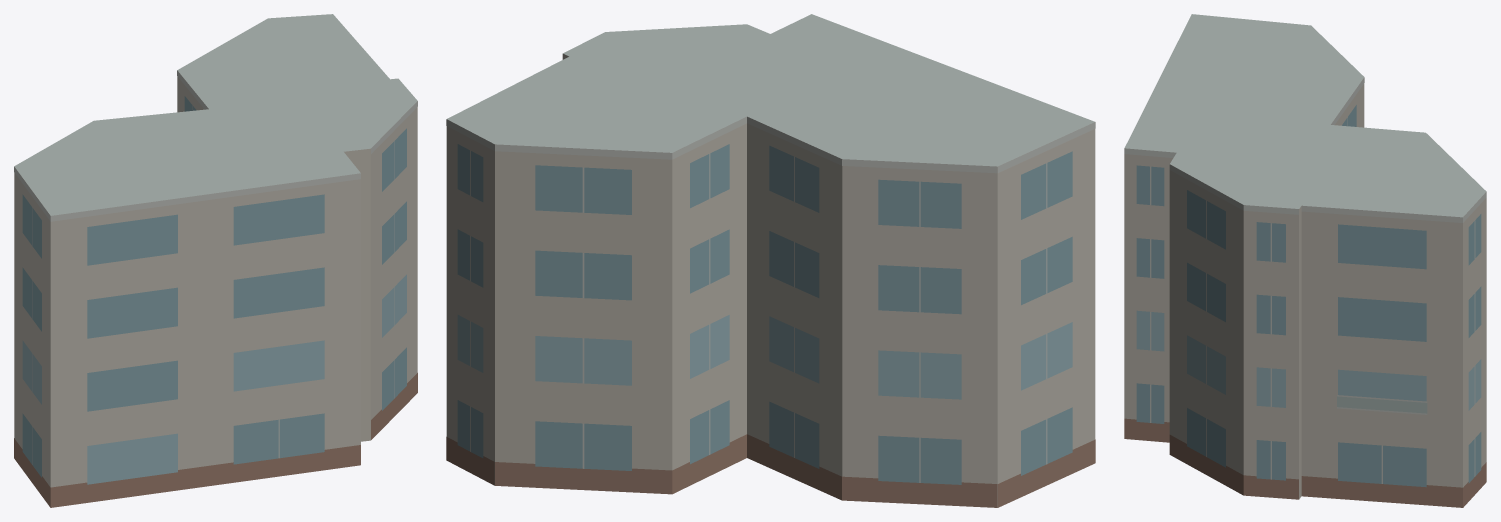
Rendered from survey-upis-32657081.glb.
3 views of the same model, side by side, from view 1: azimuth 30°, elevation 25°; view 2: azimuth 150°, elevation 25°; view 3: azimuth 270°, elevation 25° (orthographic). The views are drawn at different scales.
Visible parts, largest first — view 1: survey-upis-32657081.tmp; view 2: survey-upis-32657081.tmp; view 3: survey-upis-32657081.tmp.
Part boxes in pixels (x1,y1,x2,y2): survey-upis-32657081.tmp: (14, 14, 417, 507); survey-upis-32657081.tmp: (446, 14, 1095, 507); survey-upis-32657081.tmp: (1124, 14, 1486, 507).
Bounding box in the file's own units: 18.39 × 12.25 × 13.85.
